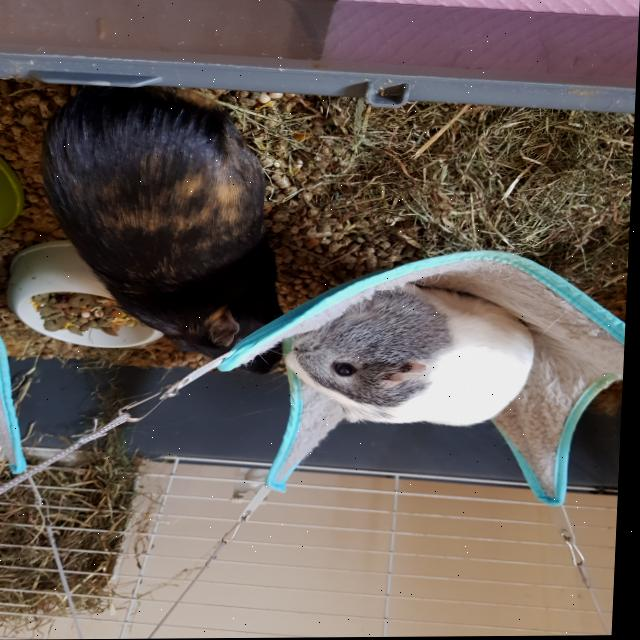guinea pig: (35, 85, 294, 380), (285, 283, 538, 428)
